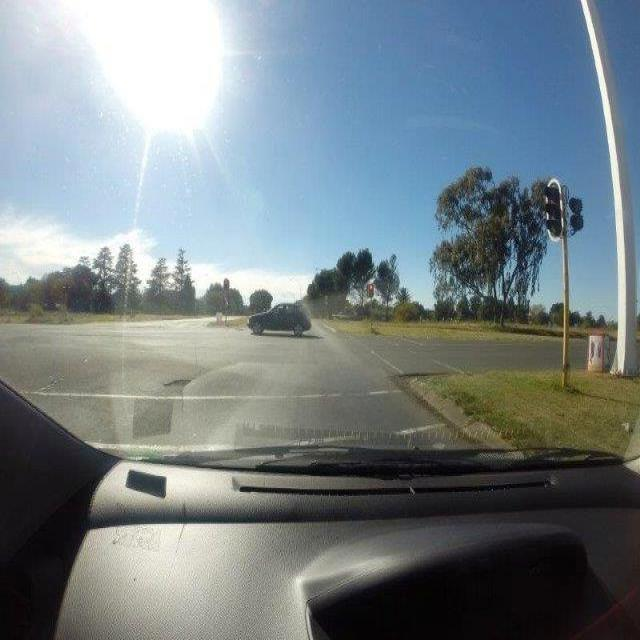lubang: (126, 390, 178, 440), (161, 376, 195, 394)
